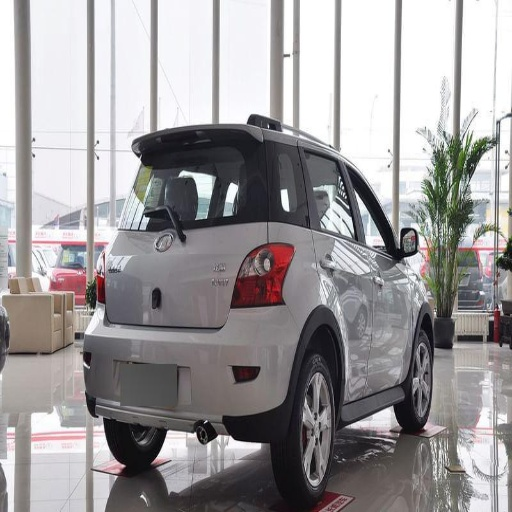back_bumper: (88, 303, 302, 423)
back_right_door: (302, 147, 373, 396)
trunk: (89, 227, 265, 335)
